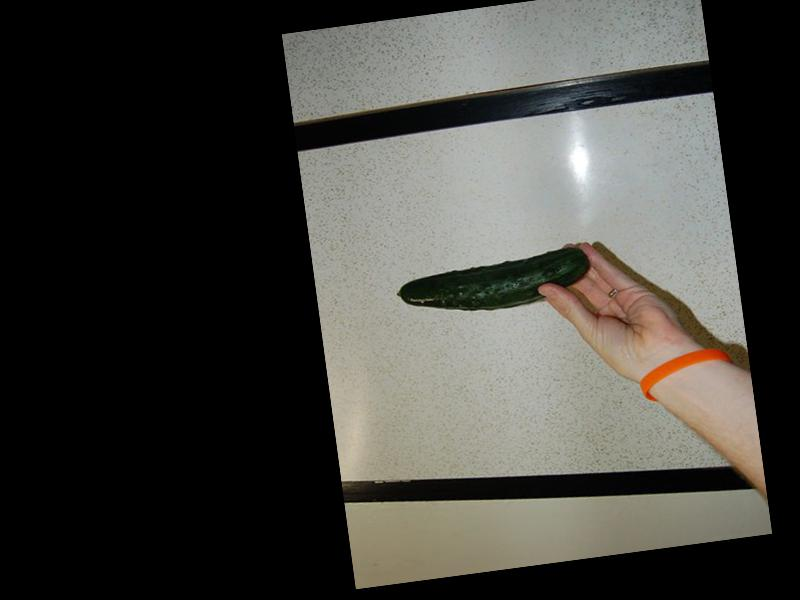Cucumber: (392, 244, 593, 320)
